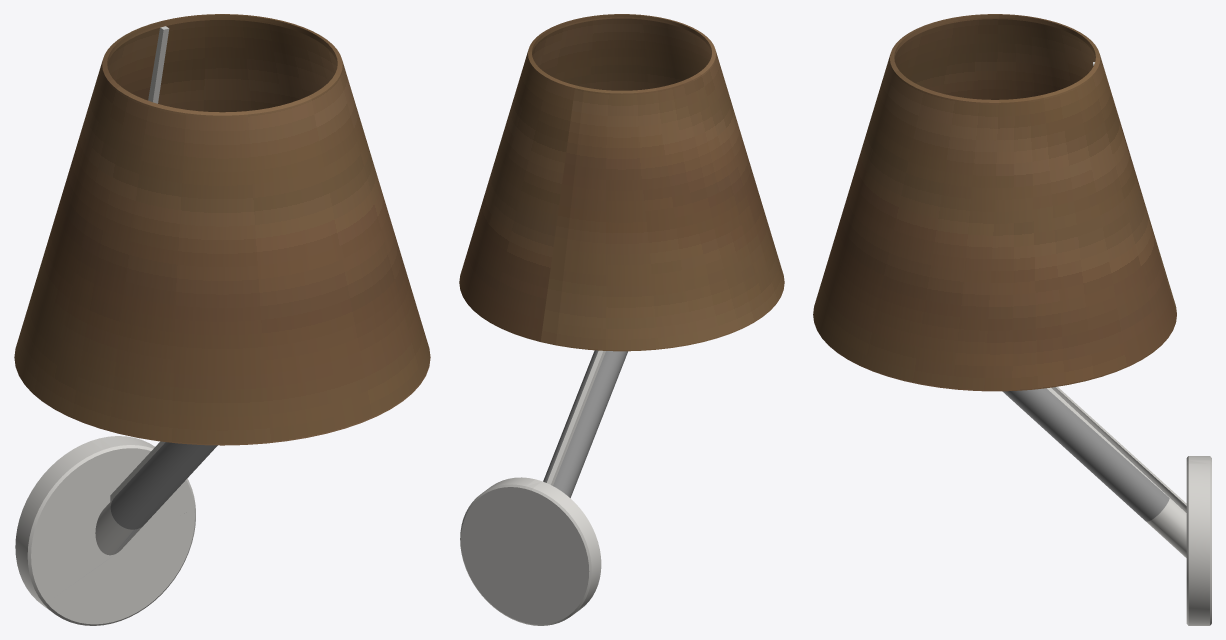
File: light.glb
The picture shows the model from 3 angles, left to right: view 1: azimuth 30°, elevation 25°; view 2: azimuth 150°, elevation 25°; view 3: azimuth 270°, elevation 25°; orthographic projection. The views are drawn at different scales.
Parts seen in each view (by area): view 1: 3DSMeshMatrix.001, 3DSMeshMatrix; view 2: 3DSMeshMatrix.001, 3DSMeshMatrix; view 3: 3DSMeshMatrix.001, 3DSMeshMatrix.
Boxes of the visible parts, x1=… form: 3DSMeshMatrix.001: x1=14, y1=14, x2=430, y2=625; 3DSMeshMatrix: x1=110, y1=442, x2=217, y2=529; 3DSMeshMatrix.001: x1=459, y1=14, x2=784, y2=625; 3DSMeshMatrix: x1=543, y1=350, x2=627, y2=497; 3DSMeshMatrix.001: x1=813, y1=14, x2=1211, y2=625; 3DSMeshMatrix: x1=1002, y1=388, x2=1169, y2=521.
Bounding box in the file's own units: 2.14 × 3.63 × 2.34.
Materials: 5 (1 with a texture image).
